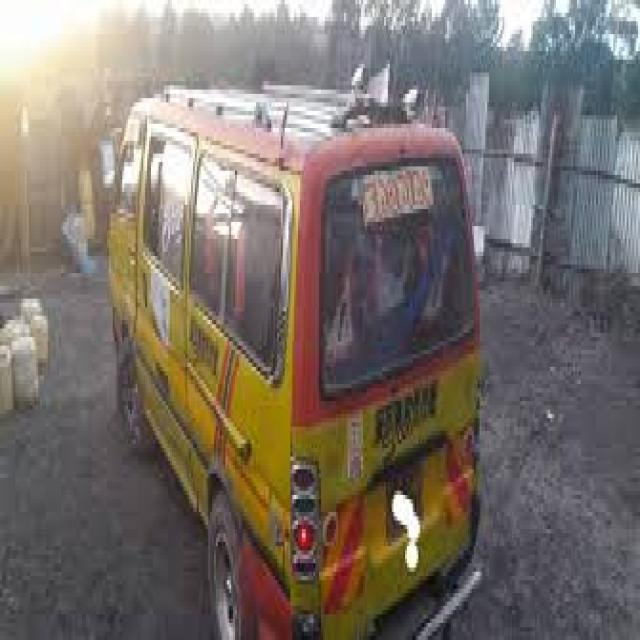matatu: (83, 53, 509, 640)
